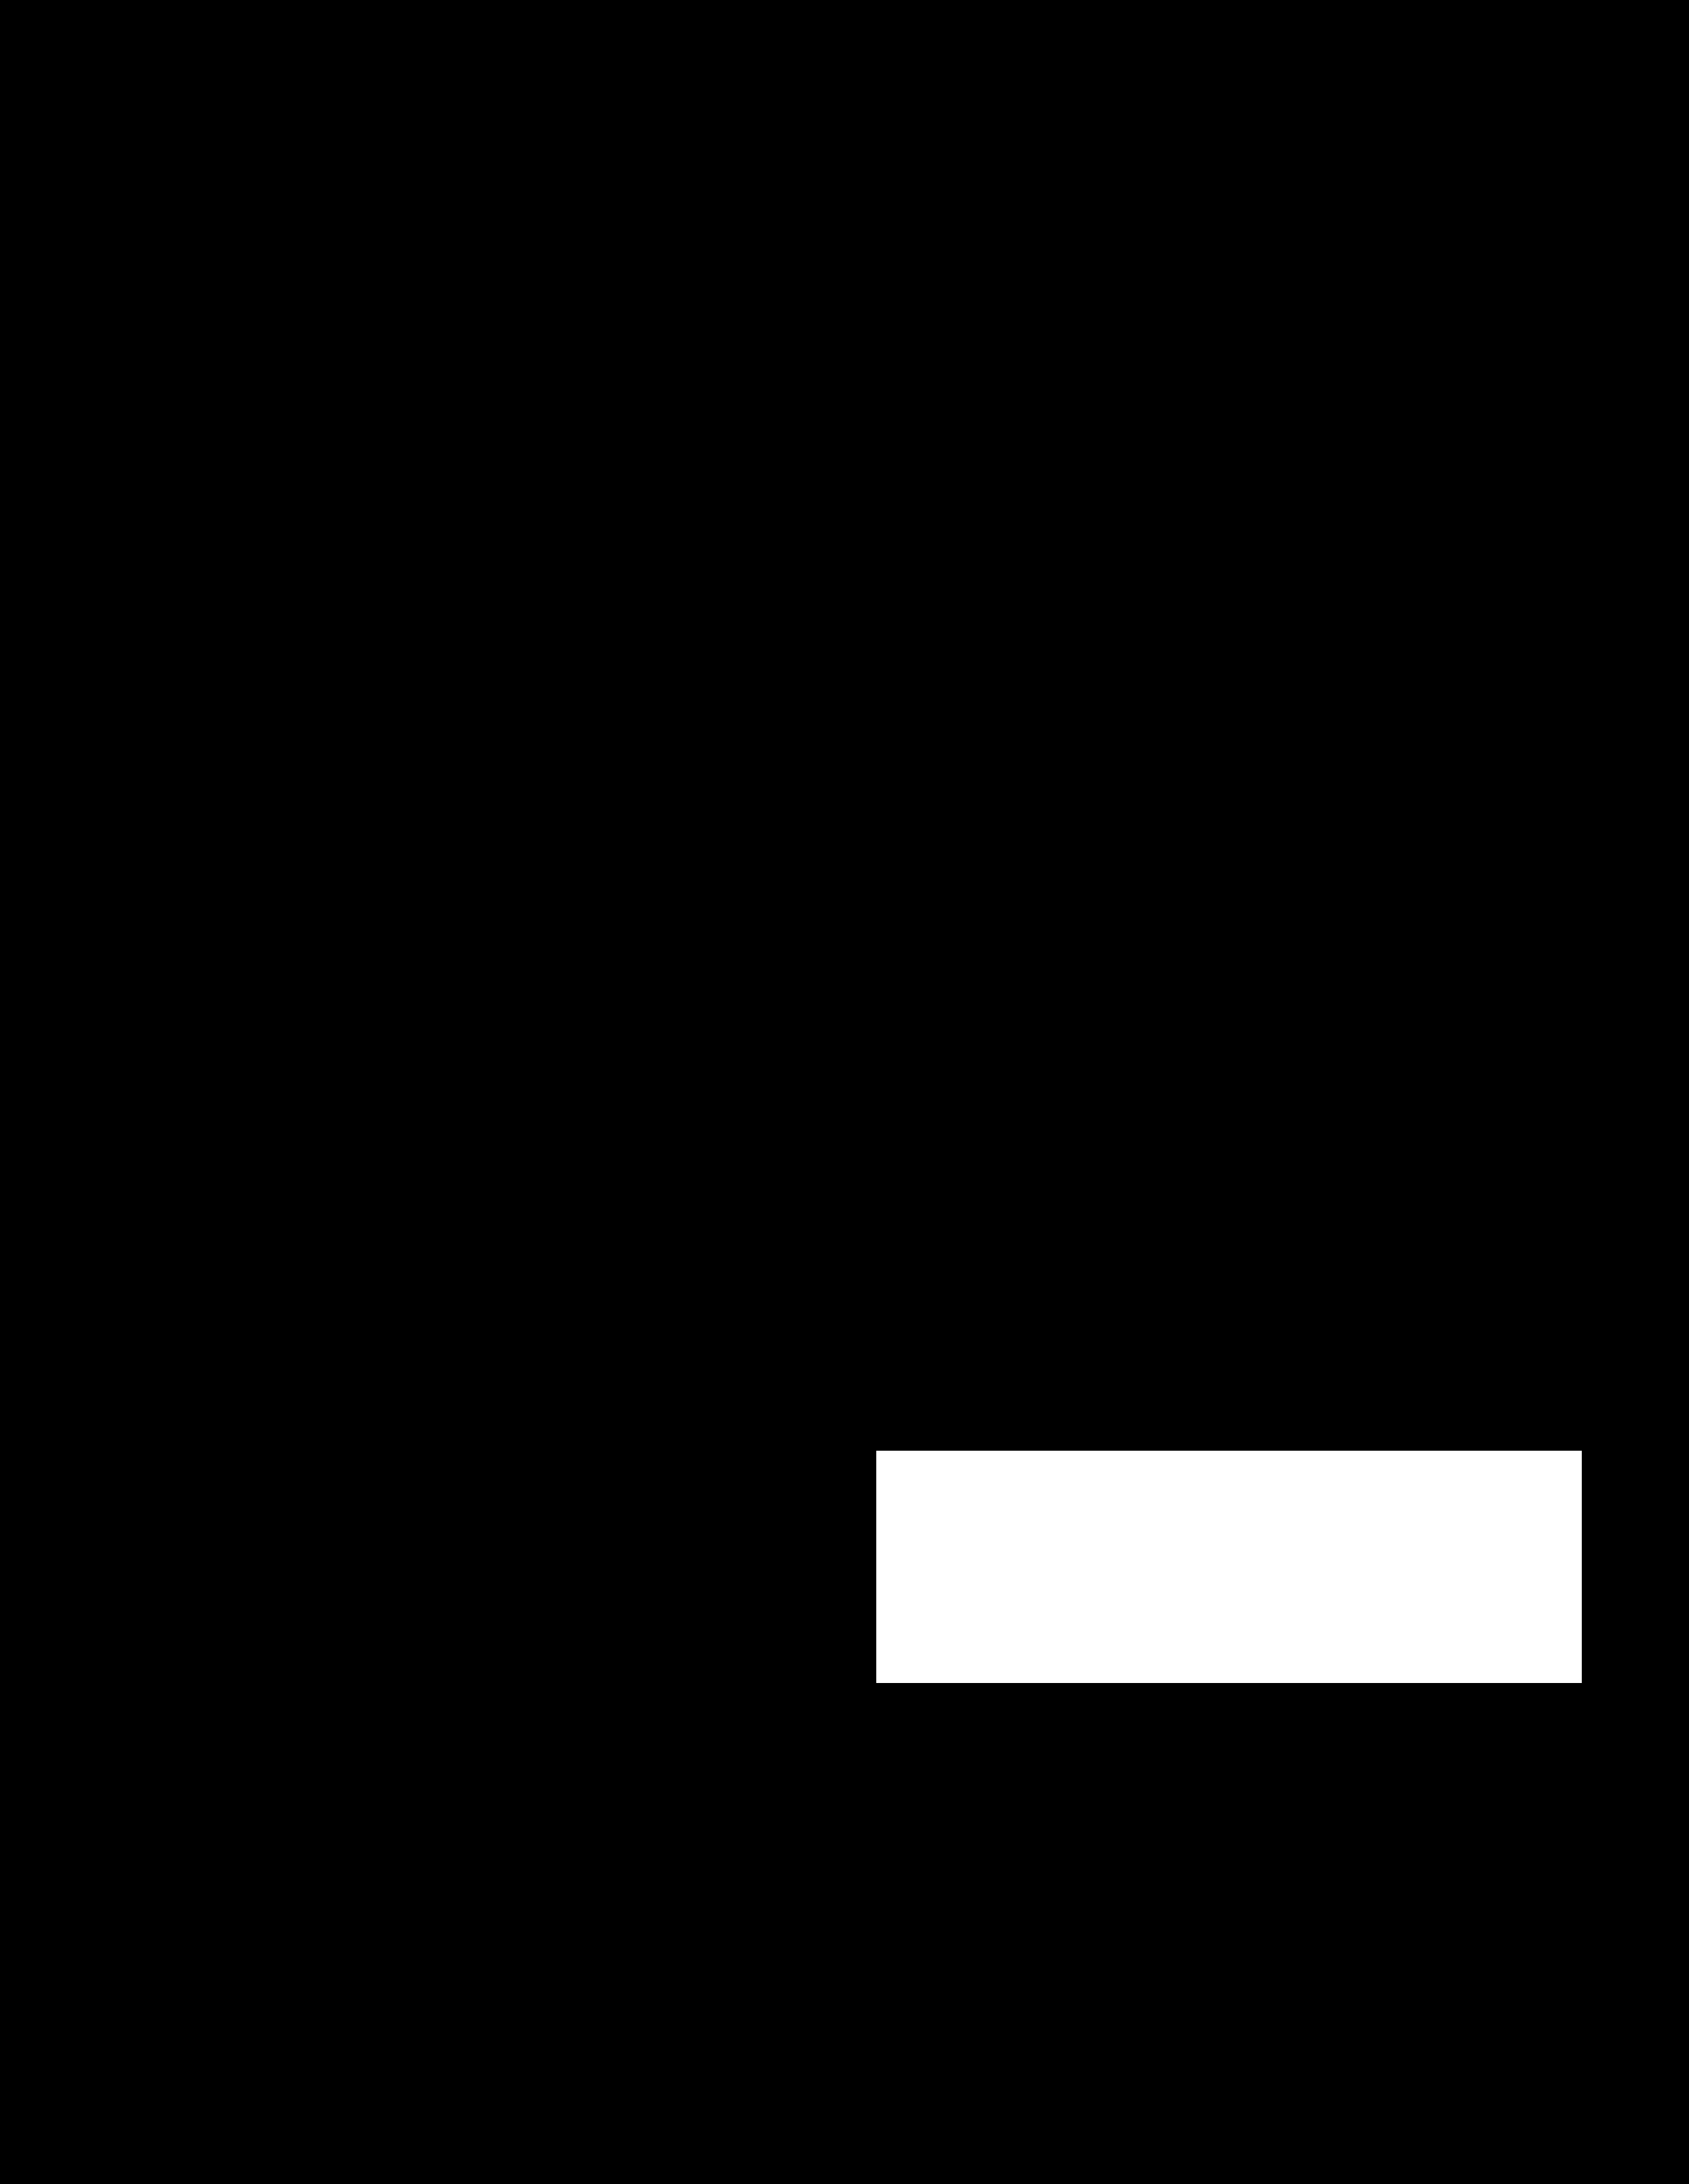table: (876, 1450, 1581, 1682)
